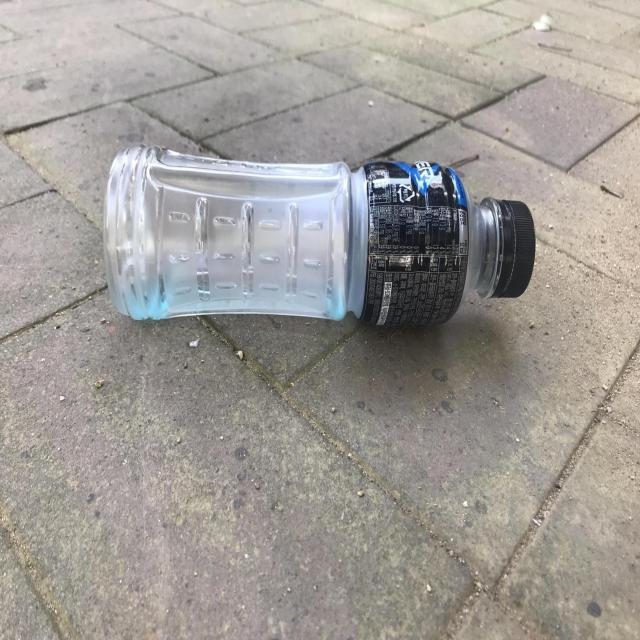plastic: (103, 144, 536, 326)
